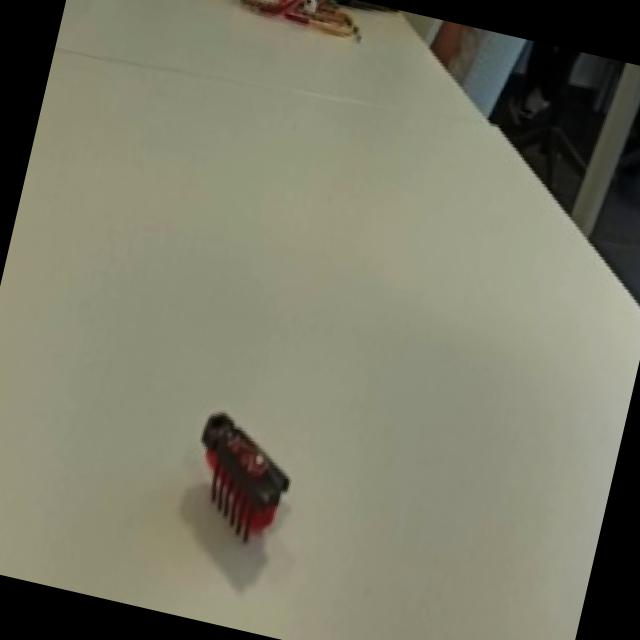2_NanoBug_Negro: (160, 386, 323, 568)
